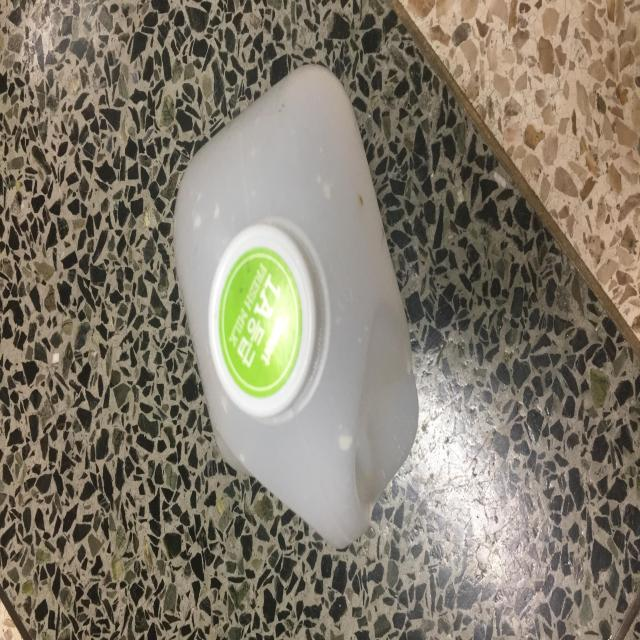plasticbottlecap: (190, 216, 341, 434)
